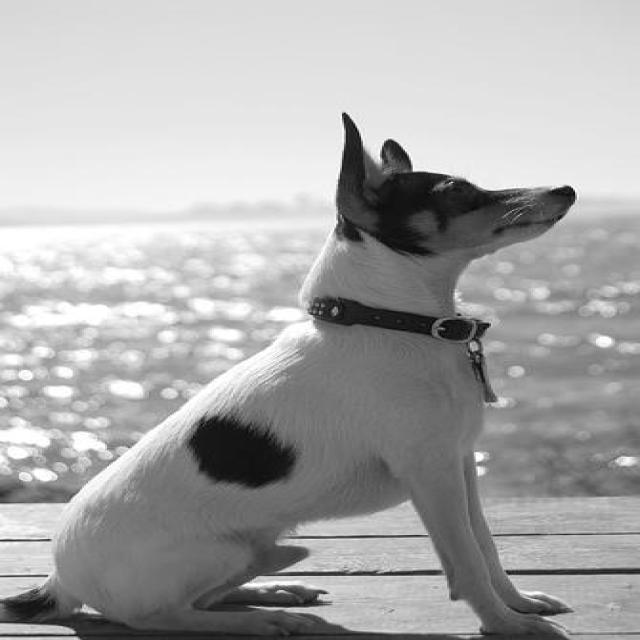toy_terrier: (0, 109, 585, 637)
